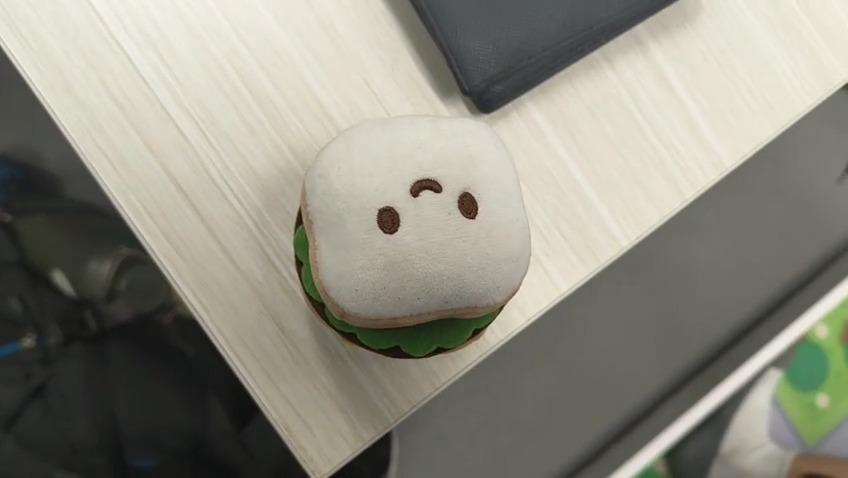objects: (294, 113, 540, 358)
